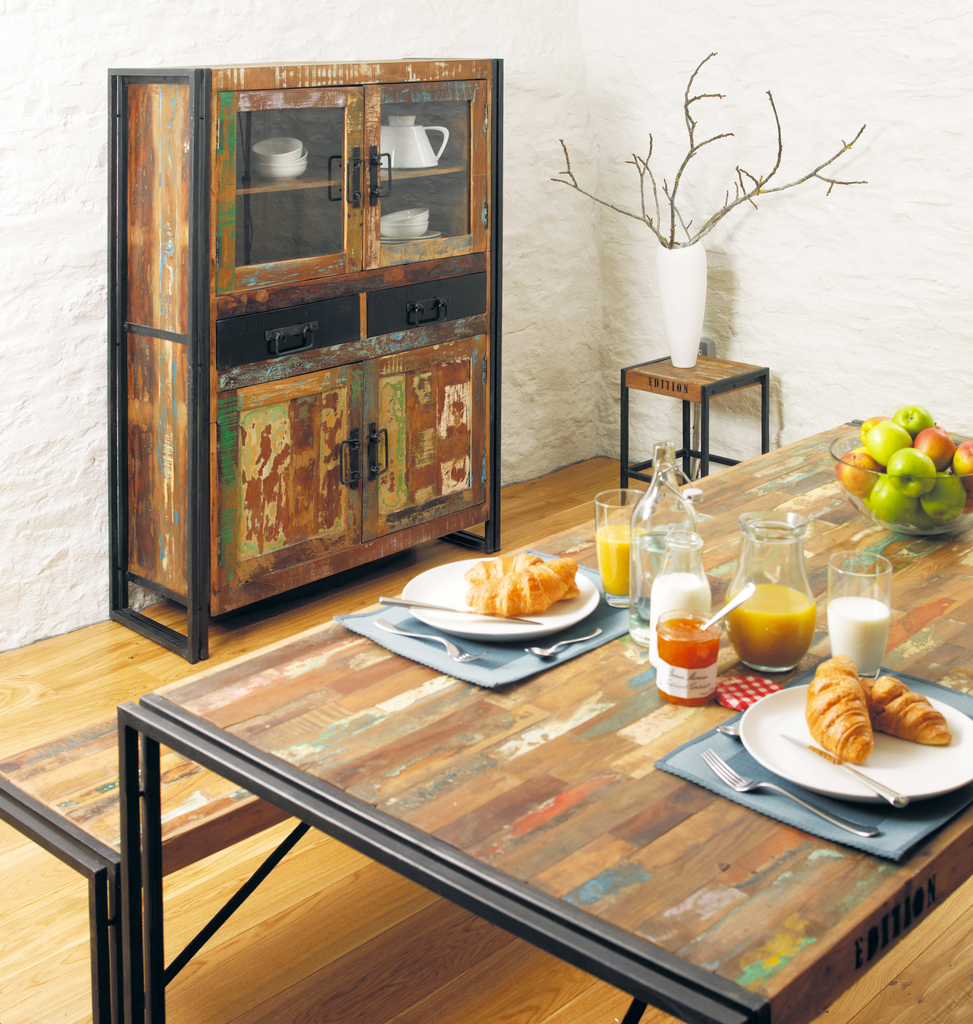cabinet door: (218, 92, 363, 272), (221, 390, 363, 560), (363, 92, 490, 249), (364, 366, 488, 505), (221, 297, 353, 347), (368, 282, 490, 326)
handle: (398, 287, 461, 338), (260, 310, 328, 356), (370, 139, 399, 219), (333, 139, 364, 212), (332, 425, 362, 499), (367, 420, 396, 488)
